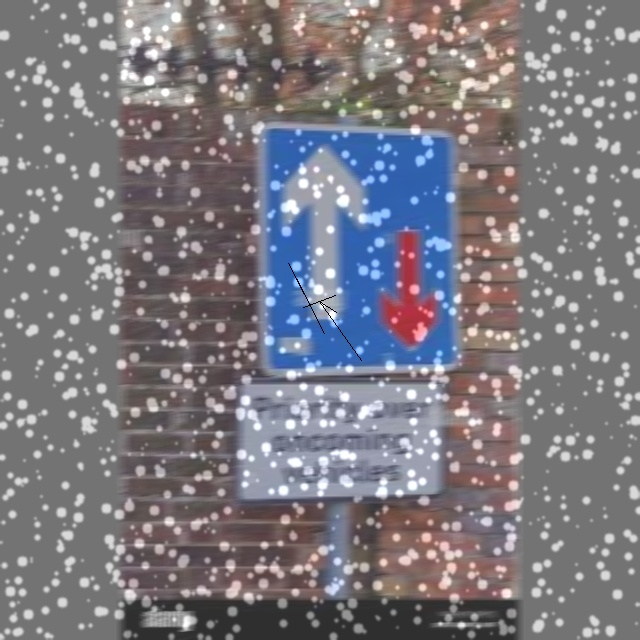Priority_for_Oncoming_Traffic: (268, 130, 457, 367)
